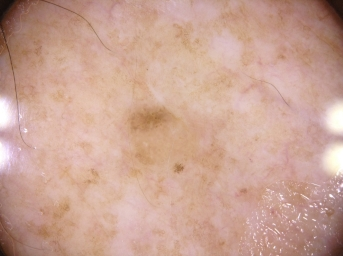seborrheic keratosis: (108, 77, 233, 204)
